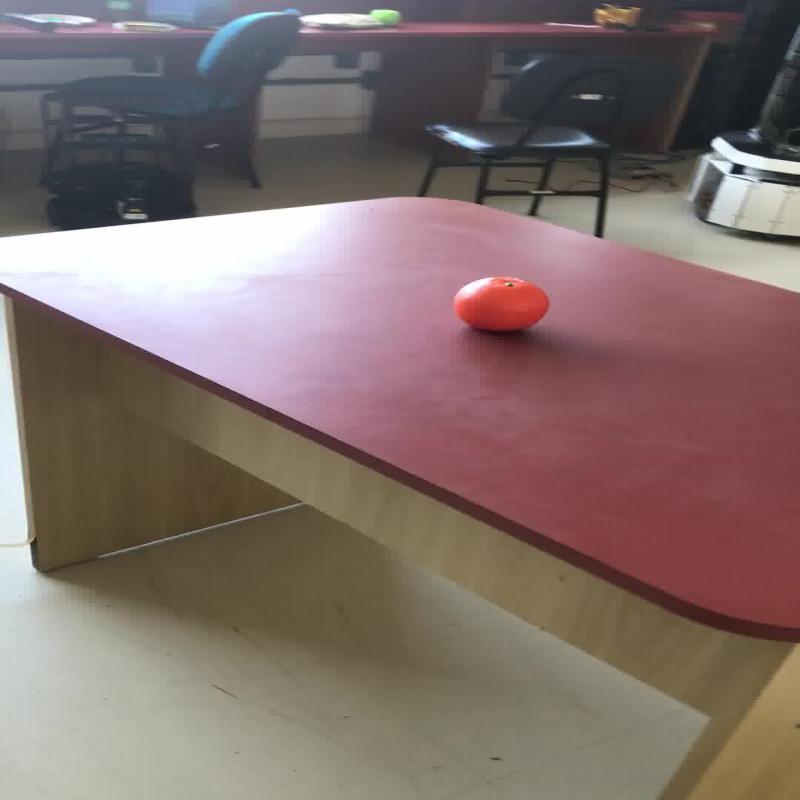orange: (451, 276, 549, 332), (367, 8, 400, 26)
